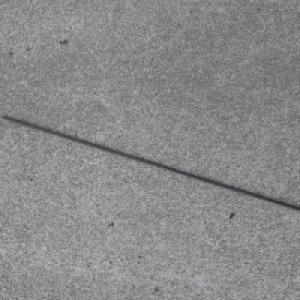LuggagePart: (0, 114, 300, 212)
